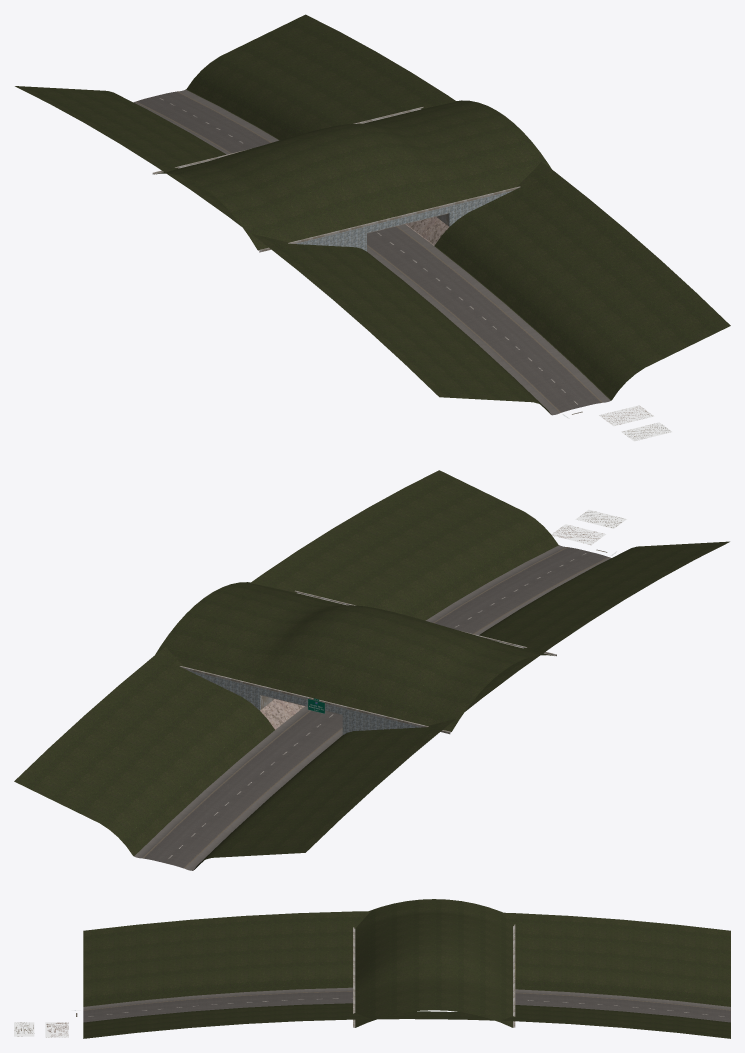
Rendered from Road01.dae.
3 views of the same model, one above another, from view 1: azimuth 30°, elevation 25°; view 2: azimuth 150°, elevation 25°; view 3: azimuth 270°, elevation 25° (orthographic). The views are drawn at different scales.
Visible parts, largest first — view 1: group_1 (×6), group_0 (×2); view 2: group_1 (×7), group_0 (×2), SketchUp; view 3: group_1 (×5), group_0 (×3), SketchUp (×2).
Boxes of the visible parts, <box> form: group_1 (×6): <box>15,14,730,415</box>; group_0 (×2): <box>156,100,551,252</box>; group_1 (×7): <box>14,470,729,870</box>; group_0 (×2): <box>155,582,553,734</box>; SketchUp: <box>551,524,605,545</box>; group_1 (×5): <box>83,911,730,1038</box>; group_0 (×3): <box>353,899,515,1027</box>; SketchUp (×2): <box>14,1022,68,1037</box>.
Size of the model in its own units: 2696 by 7346 by 877.
